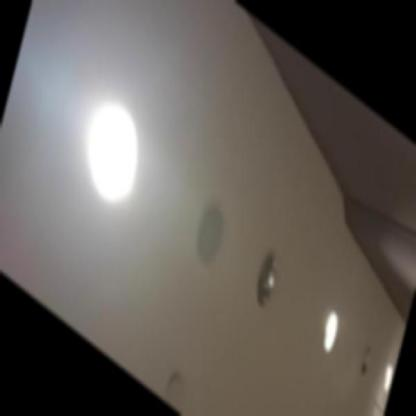light_off: (242, 219, 294, 330), (347, 324, 381, 394)
